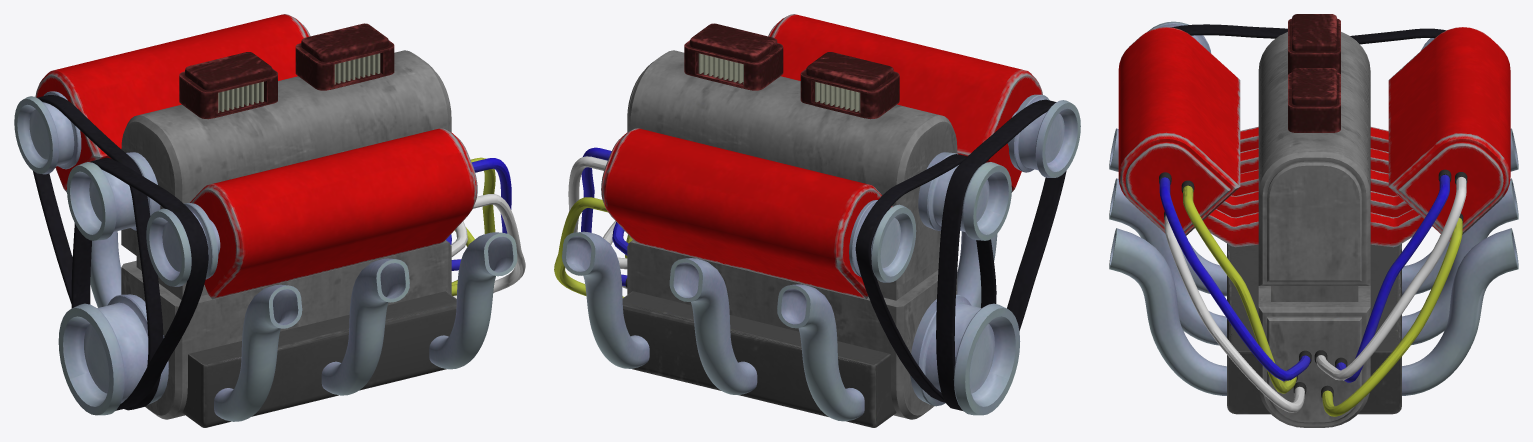
The model's file is car_engine.glb.
The picture shows the model from 3 angles, left to right: view 1: azimuth 30°, elevation 25°; view 2: azimuth 150°, elevation 25°; view 3: azimuth 270°, elevation 25°; orthographic projection. The views are drawn at different scales.
Parts seen in each view (by area): view 1: engine; view 2: engine; view 3: engine.
Part boxes in pixels (x1,y1,x2,y2): engine: (14,14,525,427); engine: (554,14,1080,427); engine: (1109,14,1518,427).
Bounding box in the file's own units: 867 × 656 × 783.
1 material, 1 textured.
